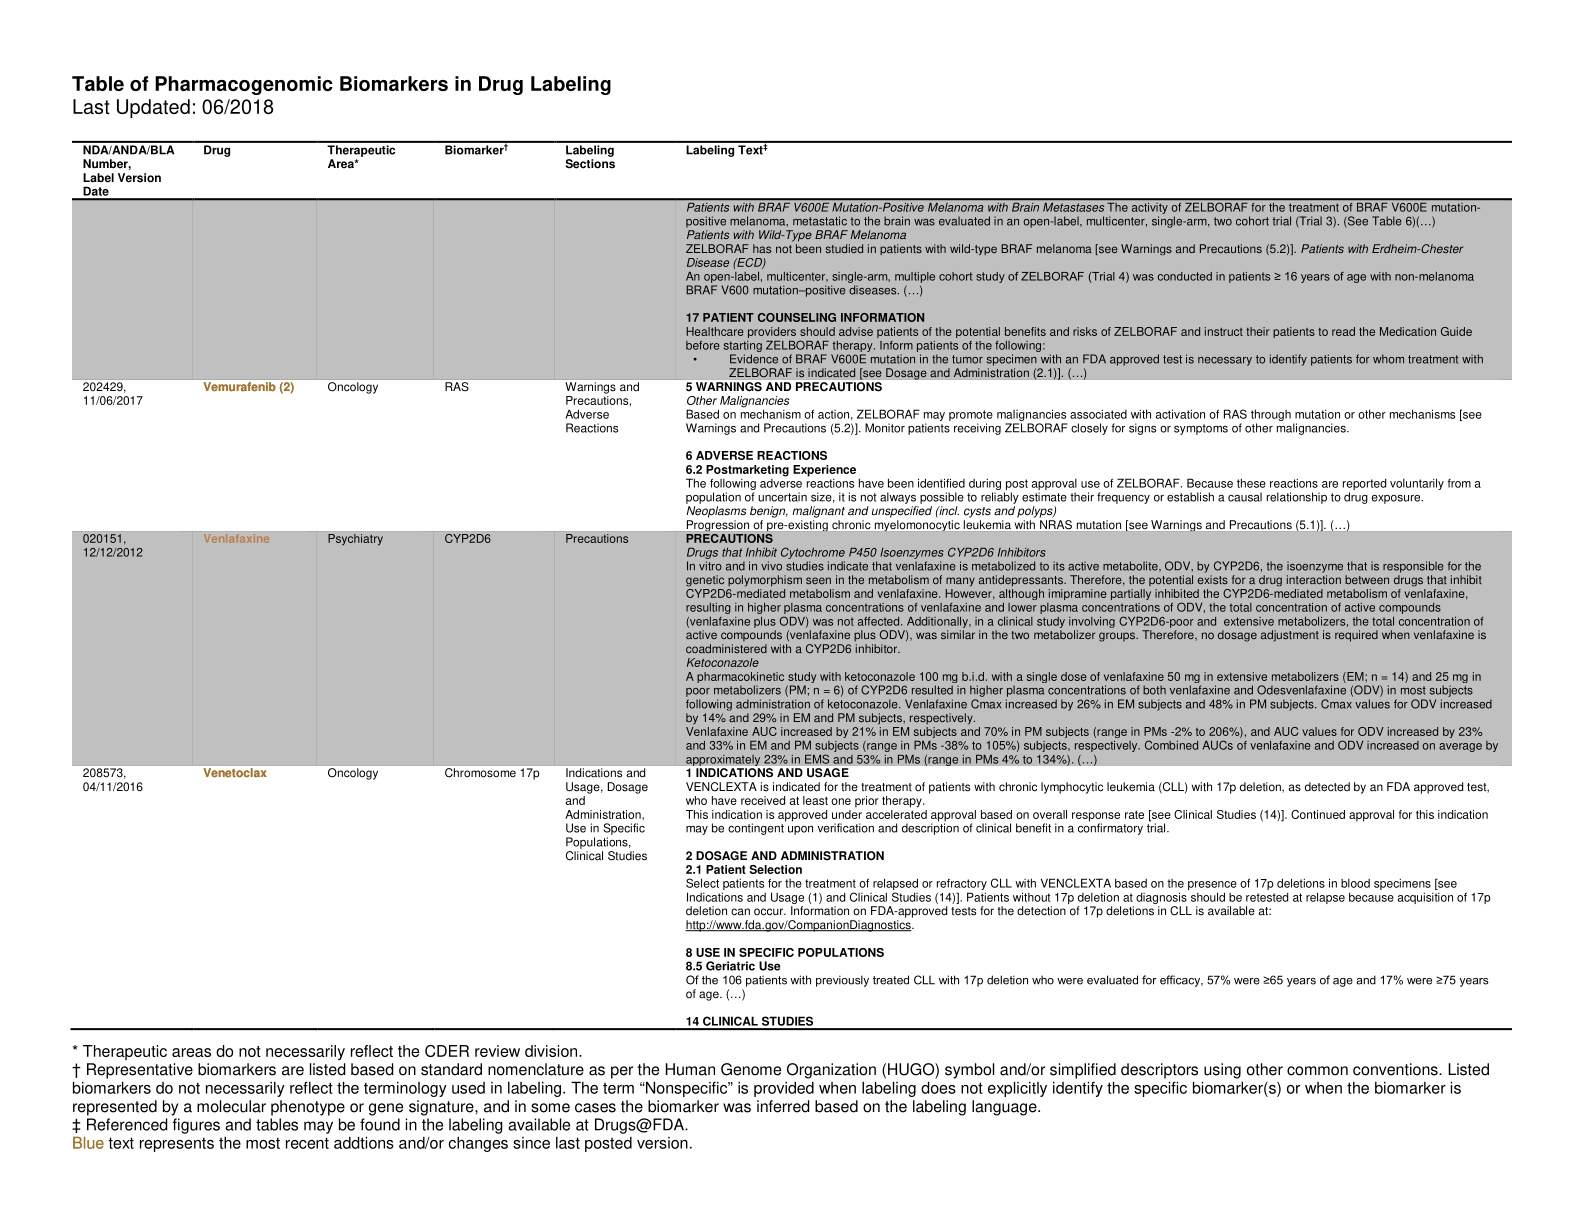partial_lined: (69, 139, 1513, 1031)
